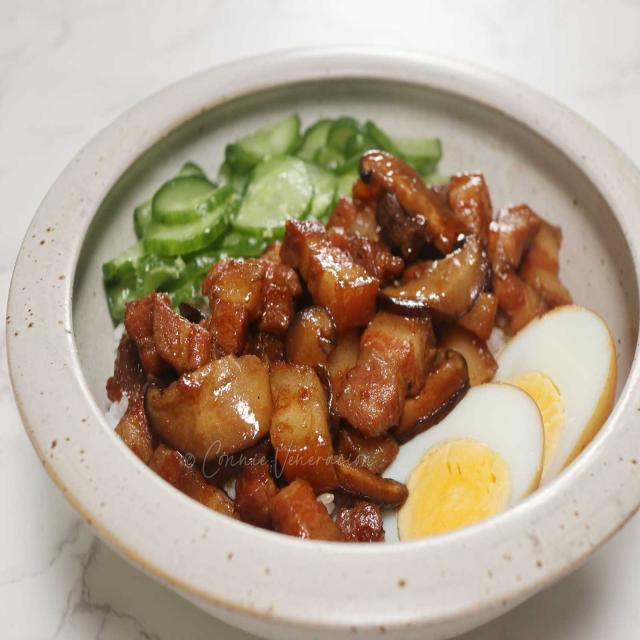Egg: (382, 306, 617, 542)
Green veg: (103, 115, 442, 326)
Pork: (116, 150, 571, 541)
